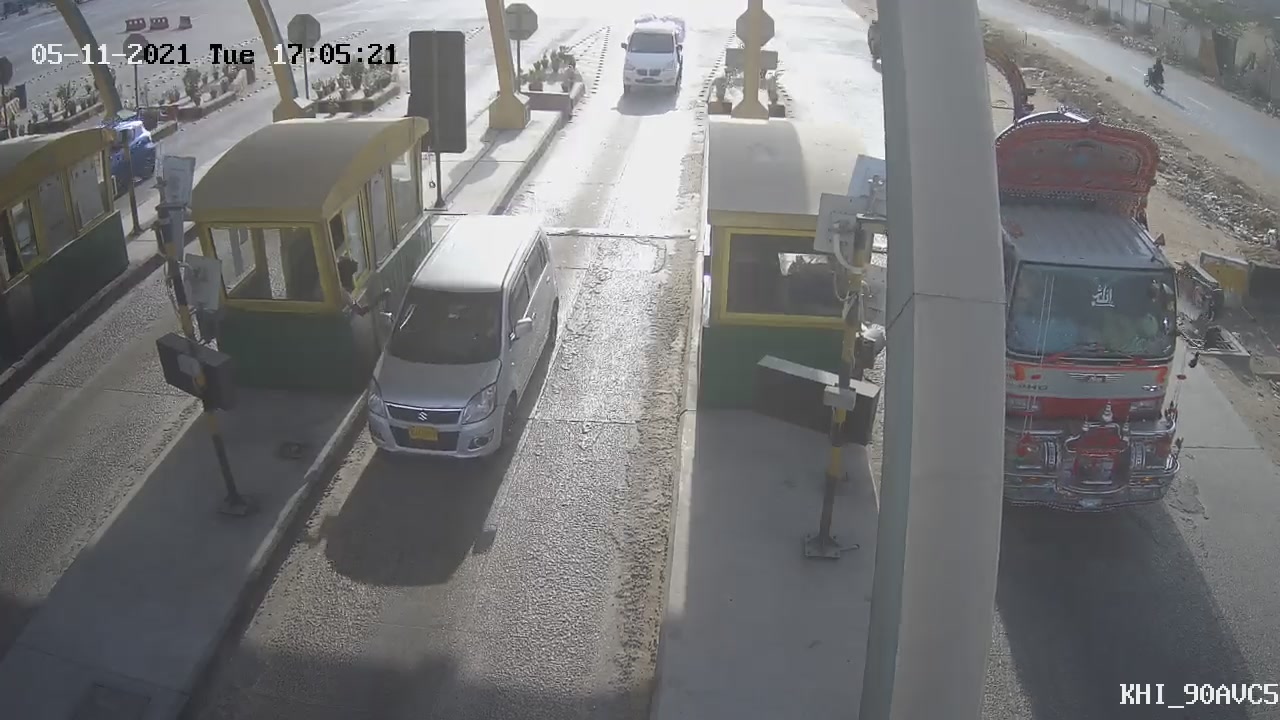F1: (336, 196, 580, 483)
